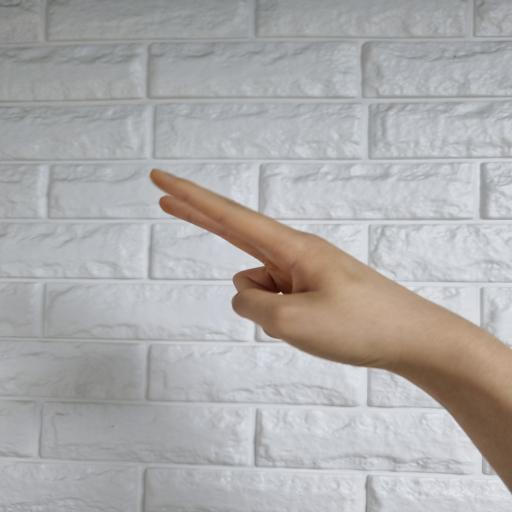Scissors: (148, 168, 415, 368)
